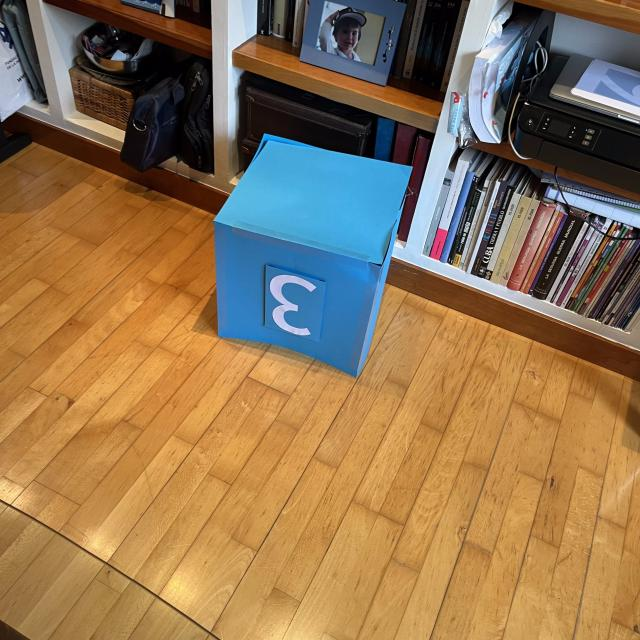box: (208, 131, 416, 379)
